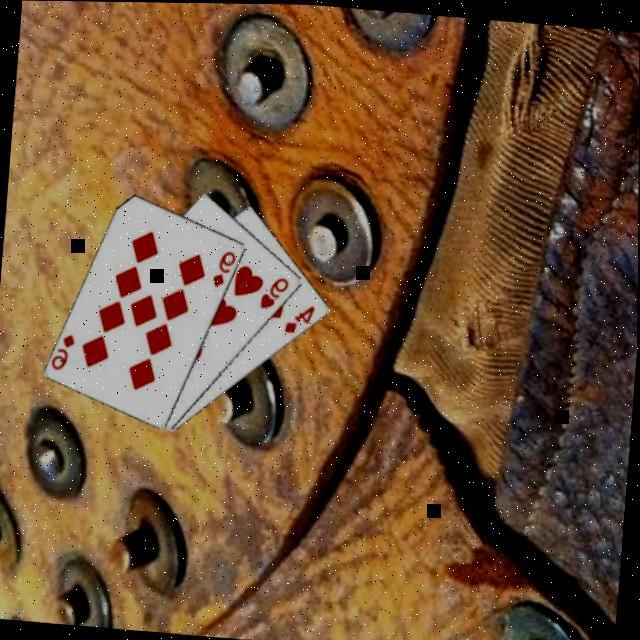4D: (280, 298, 316, 334)
9D: (208, 243, 238, 287), (48, 328, 78, 372)
9H: (256, 270, 292, 310)
